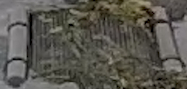bag: (6, 2, 184, 89)
